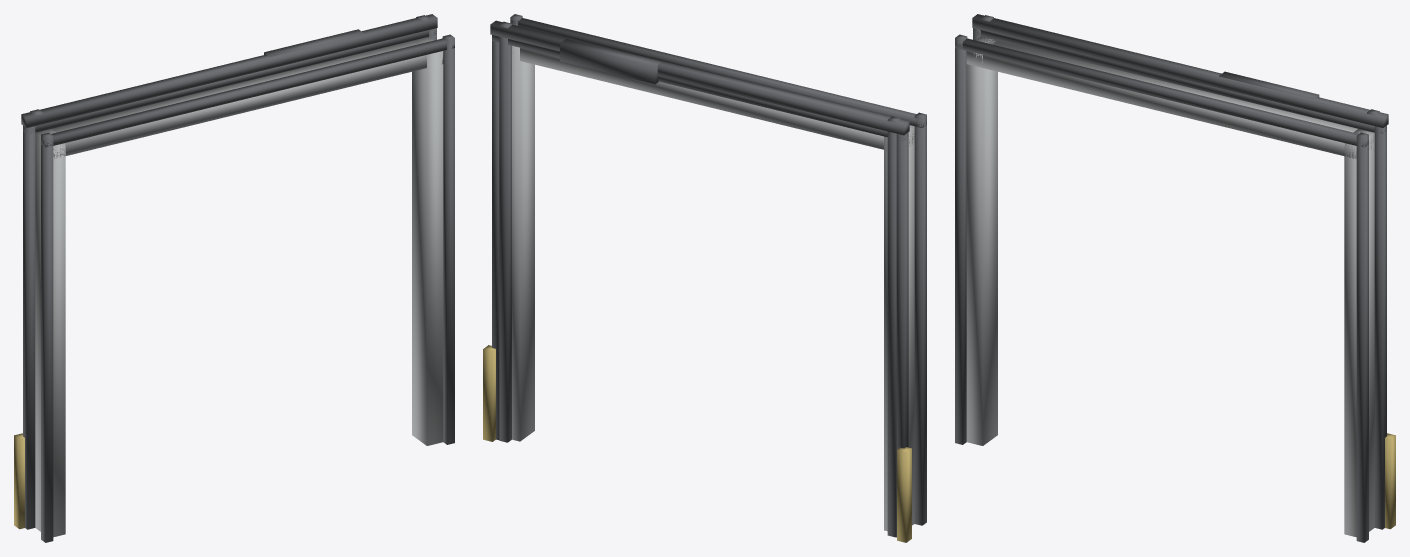
Rendered from bay_opening_loading_bay_w420_h420_d30.glb.
The picture shows the model from 3 angles, left to right: view 1: azimuth 30°, elevation 25°; view 2: azimuth 150°, elevation 25°; view 3: azimuth 330°, elevation 25°; orthographic projection.
Visible parts, largest first — view 1: world; view 2: world; view 3: world.
Boxes of the visible parts, x1=… form: world: x1=14, y1=14, x2=454, y2=542; world: x1=483, y1=14, x2=926, y2=542; world: x1=955, y1=14, x2=1395, y2=542.
Bounding box in the file's own units: 4.89 × 4.59 × 0.522.
